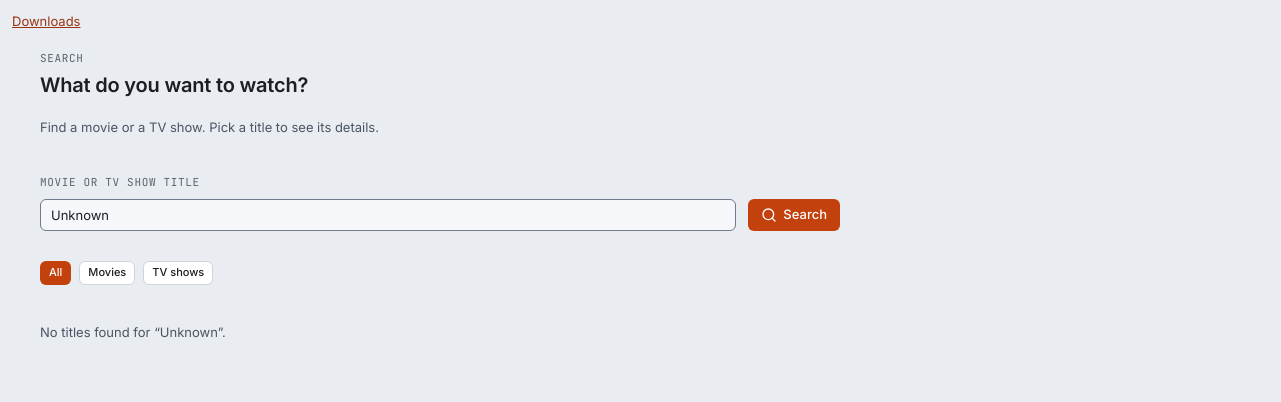
catalog screens › shows empty results and permits downloads navigation during TMDB failure
Expected: the text "No titles found for “Unknown”." is shown, [40,324,226,340]
Replace the text in the search field with "Other" at (388, 215), box [40,199,736,231]
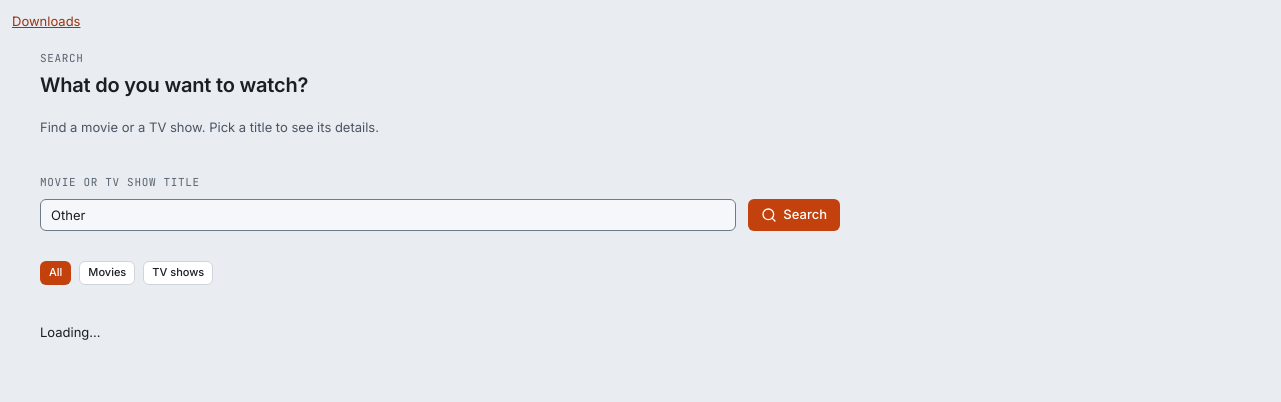
Click the button "Search" at (794, 215), box [748,199,840,231]
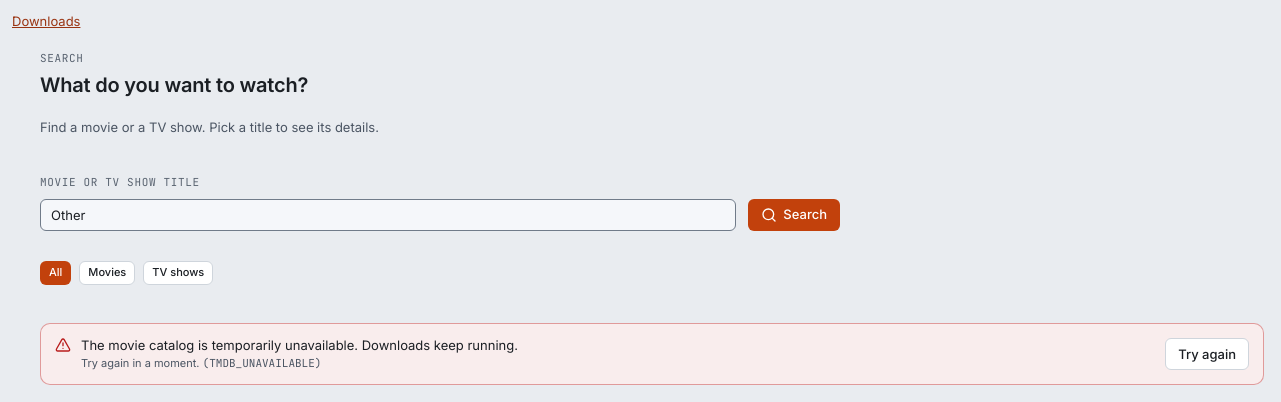
Expected: the message shows "Downloads keep running", [81,337,518,353]
Click the link "Downloads" at (46, 21), box [12,13,80,29]
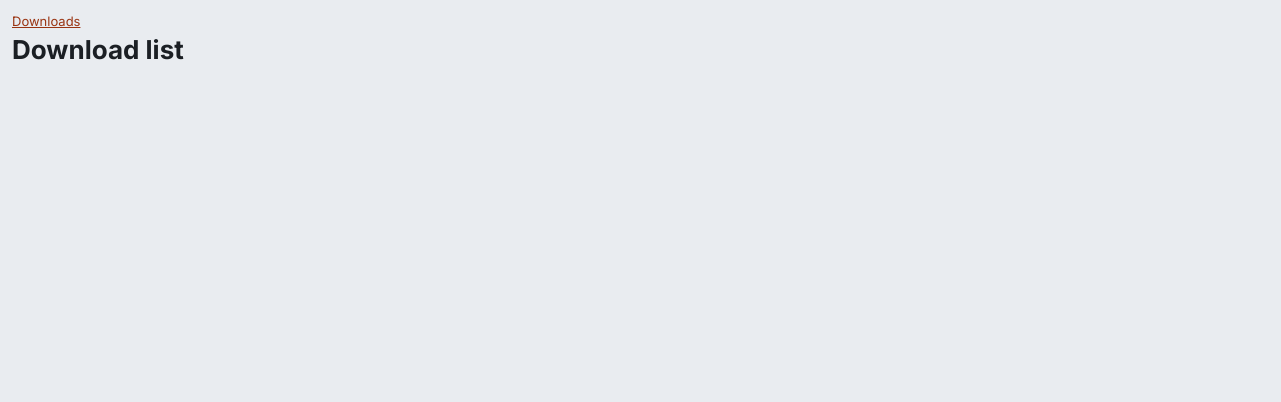
Expected: the heading "Download list" is shown, [12,34,184,65]
